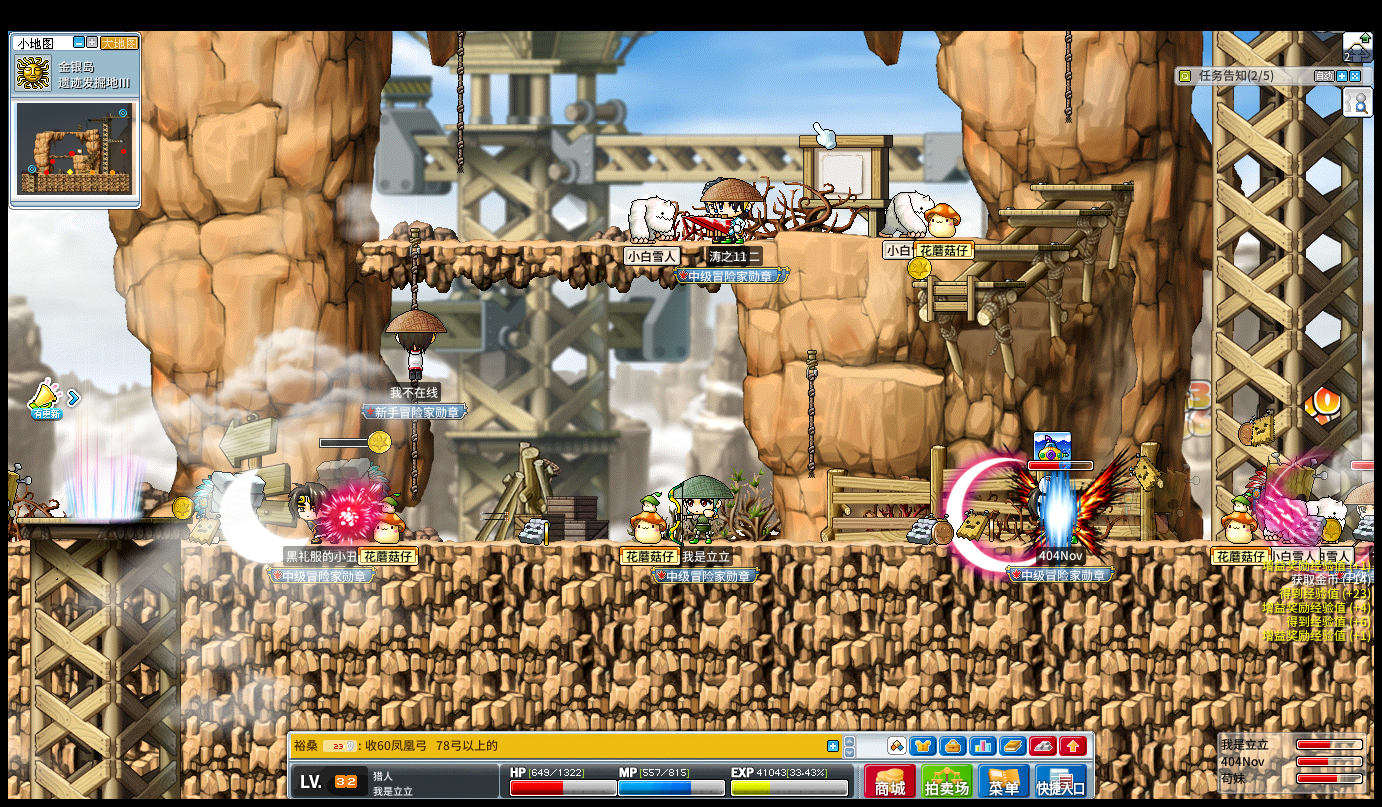floor: (358, 239, 737, 249), (836, 364, 944, 385), (19, 515, 189, 524), (996, 207, 1111, 215), (909, 280, 1023, 288), (966, 242, 1068, 250), (1029, 184, 1134, 191)
monster: (1, 463, 31, 531)
rope: (804, 351, 817, 478), (455, 29, 464, 169), (410, 420, 423, 504), (405, 227, 418, 309), (1062, 30, 1071, 121)
